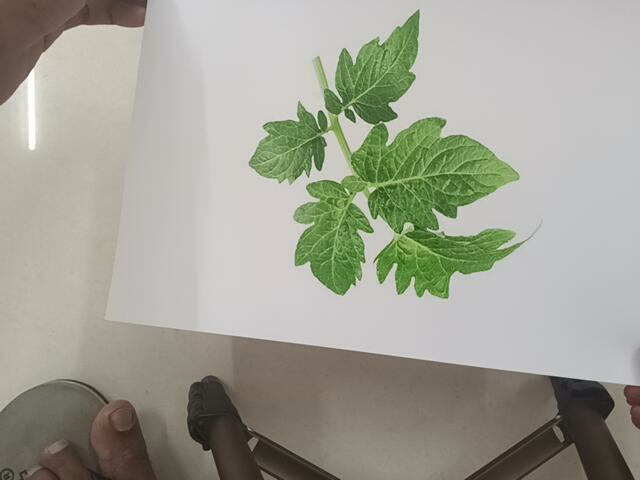Tomamto_Leaf_Healthy: (236, 10, 559, 303)
